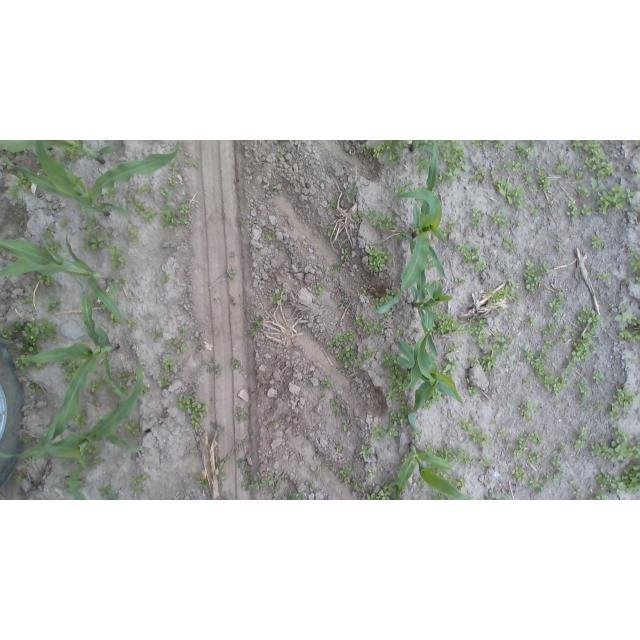Maize: (1, 273, 128, 462), (2, 142, 180, 217), (52, 358, 145, 499), (379, 141, 446, 313), (1, 236, 122, 321), (397, 329, 463, 439), (408, 238, 453, 358), (396, 441, 466, 500), (0, 141, 116, 164), (409, 141, 434, 153)
Weeds: (565, 304, 604, 372), (519, 346, 569, 395), (589, 426, 640, 462), (354, 207, 407, 238), (236, 459, 280, 495), (592, 460, 640, 493), (326, 331, 363, 373), (572, 140, 613, 176), (437, 140, 468, 184), (0, 322, 40, 356), (159, 187, 190, 230), (179, 392, 210, 433), (380, 351, 406, 399), (595, 183, 634, 213), (493, 177, 527, 208), (485, 279, 524, 304), (610, 383, 635, 422), (461, 417, 492, 448), (364, 244, 395, 275), (434, 308, 466, 338), (524, 260, 551, 293), (513, 431, 545, 457), (458, 242, 485, 271), (310, 463, 338, 490), (129, 195, 155, 221), (434, 448, 471, 464), (468, 318, 487, 349), (354, 315, 385, 334), (108, 245, 130, 271), (568, 199, 593, 221), (366, 482, 395, 500), (488, 328, 509, 352), (471, 166, 498, 183), (488, 210, 509, 231), (371, 141, 392, 162), (79, 215, 99, 237), (166, 336, 187, 356), (371, 427, 399, 442), (40, 316, 59, 338), (518, 399, 536, 422), (340, 462, 357, 485), (440, 356, 460, 375), (515, 141, 536, 159), (370, 290, 395, 305), (127, 224, 143, 247), (81, 236, 104, 252), (537, 166, 552, 190), (576, 379, 592, 401), (479, 352, 496, 372), (501, 160, 527, 173), (555, 158, 571, 179), (550, 292, 563, 317), (527, 449, 545, 467), (613, 313, 639, 325), (529, 476, 544, 496), (98, 485, 118, 500), (32, 273, 52, 287), (311, 282, 325, 302), (62, 361, 75, 382), (250, 318, 263, 339), (360, 439, 373, 460), (619, 328, 640, 341), (61, 147, 80, 161), (125, 421, 141, 437), (193, 474, 208, 491), (214, 457, 228, 475), (345, 183, 358, 202), (513, 466, 527, 483), (204, 363, 222, 376), (570, 439, 588, 452), (562, 324, 573, 345), (591, 177, 606, 192), (449, 477, 465, 491), (471, 207, 481, 229), (268, 287, 280, 305), (322, 262, 343, 272), (131, 474, 150, 485), (236, 406, 249, 422), (399, 401, 408, 424), (386, 148, 398, 165), (502, 237, 516, 251), (18, 176, 31, 191), (164, 358, 177, 373), (592, 370, 604, 386), (16, 359, 32, 371), (523, 167, 533, 186), (551, 455, 562, 472), (540, 324, 557, 335), (90, 382, 104, 395), (8, 185, 21, 199), (498, 425, 511, 439), (427, 488, 445, 498), (263, 180, 278, 192), (353, 477, 365, 492), (105, 188, 120, 200), (415, 157, 428, 170), (158, 376, 171, 389), (263, 230, 275, 244), (326, 196, 337, 211), (574, 427, 589, 438), (471, 140, 489, 149), (286, 492, 304, 501), (138, 183, 154, 193), (447, 341, 463, 351), (128, 315, 141, 327), (572, 487, 584, 500), (599, 271, 612, 283), (43, 225, 54, 239), (47, 240, 61, 251), (76, 411, 87, 425), (330, 399, 339, 416), (389, 411, 399, 426), (47, 299, 59, 311), (491, 140, 507, 149), (415, 479, 425, 493), (487, 493, 507, 500), (630, 259, 640, 273), (545, 474, 560, 483), (185, 158, 200, 167), (577, 184, 588, 196), (337, 295, 348, 307), (151, 328, 162, 340), (466, 386, 478, 397), (170, 163, 181, 175), (340, 248, 350, 261), (159, 270, 169, 283), (480, 457, 490, 470), (20, 433, 33, 443), (590, 236, 600, 249), (466, 357, 478, 367), (628, 248, 640, 258), (178, 325, 190, 335), (230, 357, 240, 369), (87, 445, 100, 454), (227, 267, 237, 278), (358, 143, 368, 154), (168, 177, 179, 187), (368, 468, 378, 479), (363, 349, 374, 359), (328, 225, 337, 237), (319, 383, 331, 392), (596, 491, 609, 499), (29, 383, 39, 393), (399, 140, 407, 152), (132, 486, 144, 494), (117, 371, 133, 377), (454, 276, 466, 284), (276, 152, 286, 161), (16, 475, 25, 485), (115, 276, 125, 285), (269, 421, 279, 430), (37, 361, 48, 369), (433, 391, 441, 402), (544, 338, 553, 347), (141, 384, 149, 394), (24, 295, 32, 305), (528, 207, 538, 215), (518, 220, 525, 231), (443, 227, 452, 235), (61, 460, 69, 469), (596, 401, 604, 410), (559, 443, 566, 453), (110, 313, 117, 323), (424, 401, 432, 409), (425, 444, 433, 452), (99, 304, 106, 313), (92, 457, 101, 464), (508, 313, 515, 322), (510, 336, 517, 345), (385, 312, 392, 320), (570, 479, 578, 486), (523, 377, 530, 385), (503, 446, 511, 453), (577, 171, 584, 179), (448, 219, 457, 225), (336, 445, 342, 454), (122, 387, 129, 394), (61, 220, 68, 227), (553, 401, 561, 407), (634, 168, 640, 176), (406, 180, 414, 186), (554, 243, 562, 249), (397, 328, 404, 334), (621, 303, 627, 310), (609, 301, 615, 308), (530, 319, 537, 325), (424, 283, 430, 290), (396, 187, 404, 192), (499, 308, 506, 313), (344, 425, 349, 431), (321, 395, 326, 401), (223, 495, 229, 500), (491, 420, 497, 425), (179, 488, 185, 493), (635, 357, 640, 363), (636, 141, 640, 148), (222, 476, 226, 479), (289, 140, 293, 142)
